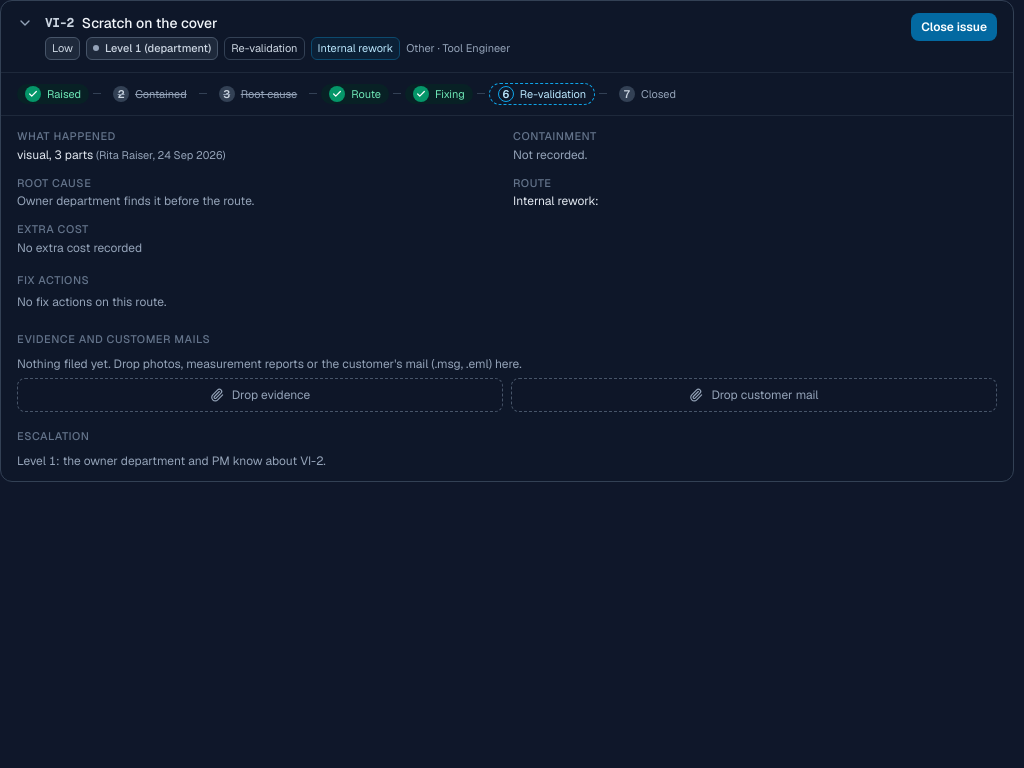
A5-01 the closure note of a HARD #3 issue is a reference › switched off, any note closes (the rule before)
Click the button with test id "issue-primary-11": [954, 27] box [911,13,997,41]
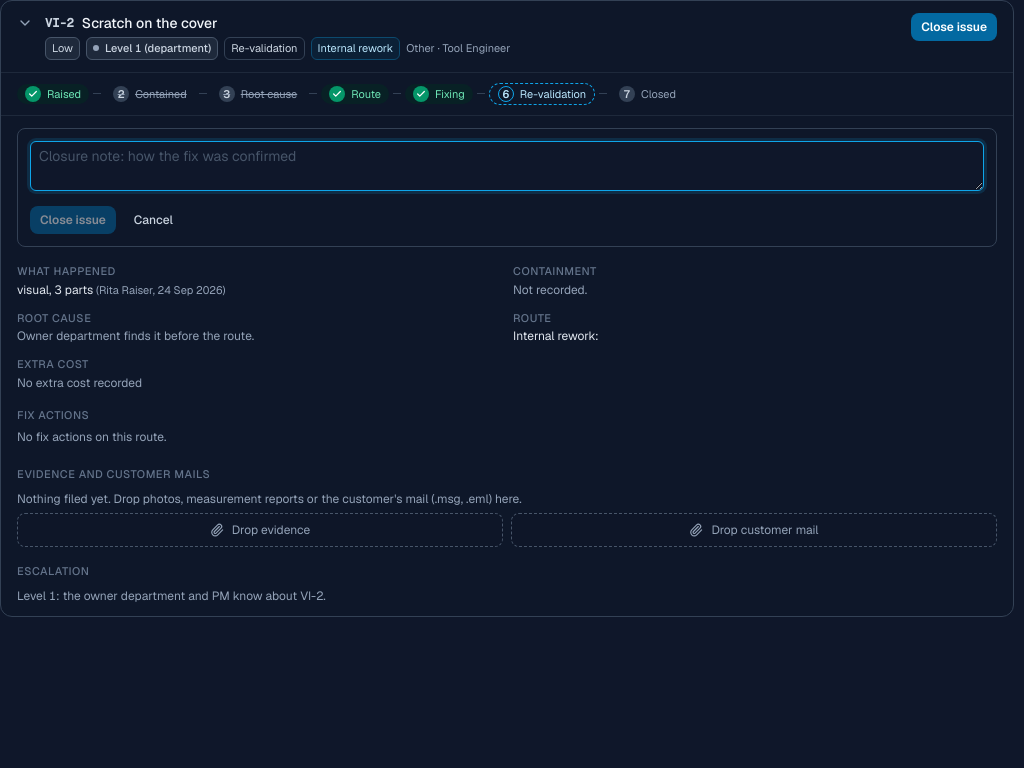
In the text box with test id "issue-text-close-11": [507, 166] box [30,141,984,191], type "fine"
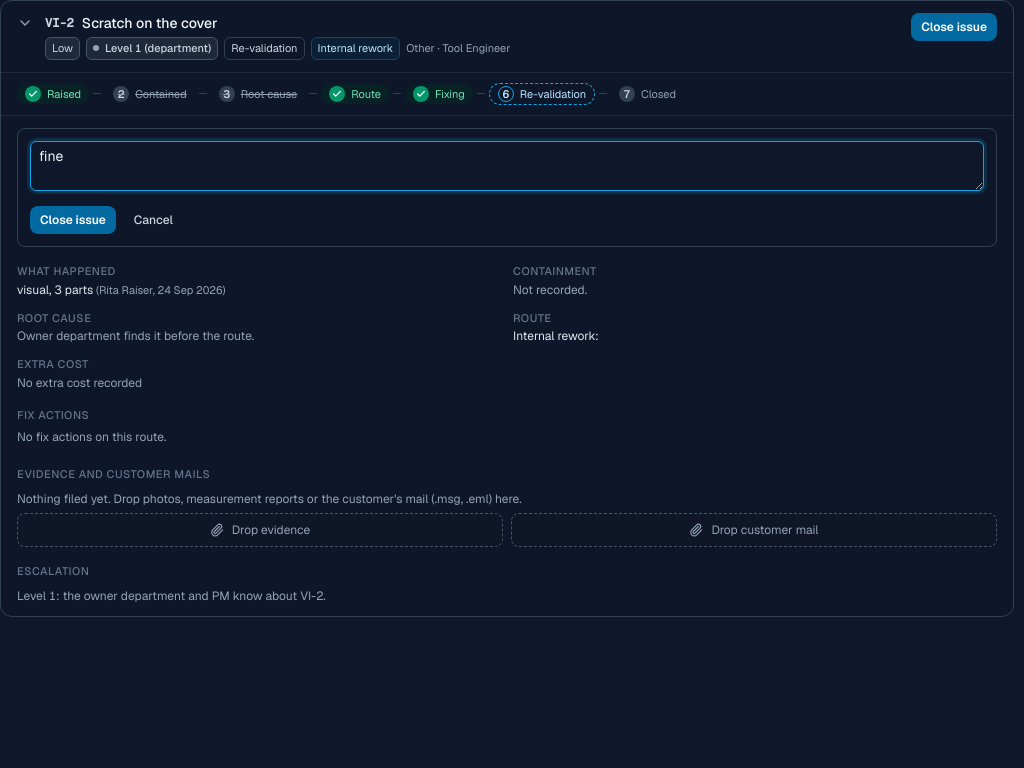
Expected: the button with test id "issue-text-submit-close-11" is enabled, [30,206,116,234]
